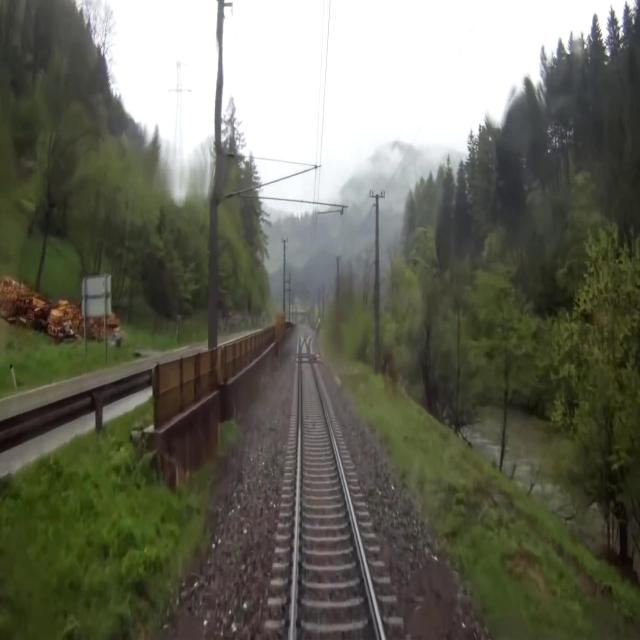rail-track: (294, 343, 381, 639)
